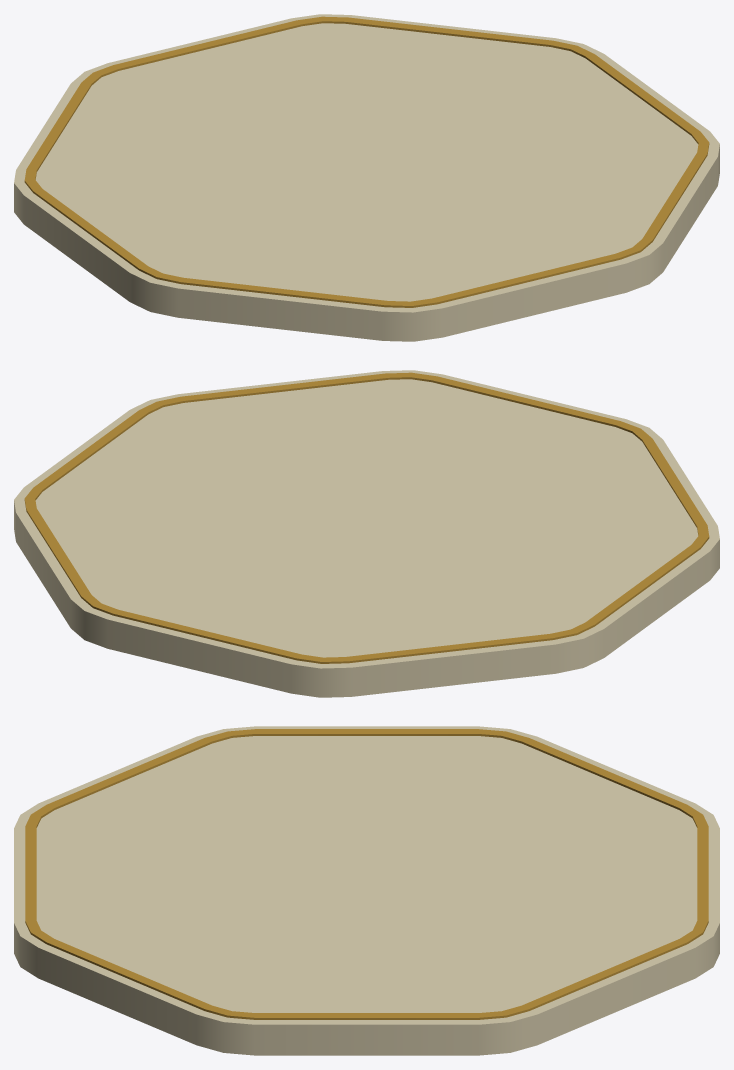
3 renders of one model, top to bottom at view 1: azimuth 30°, elevation 25°; view 2: azimuth 150°, elevation 25°; view 3: azimuth 270°, elevation 25°, orthographic. The views are drawn at different scales.
Visible parts, largest first — view 1: pd3_base; view 2: pd3_base; view 3: pd3_base.
Boxes of the visible parts, x1=… form: pd3_base: x1=14, y1=14, x2=719, y2=341; pd3_base: x1=14, y1=370, x2=719, y2=697; pd3_base: x1=14, y1=726, x2=719, y2=1055.
Size of the model in its own units: 1.87 by 0.096 by 1.87.
